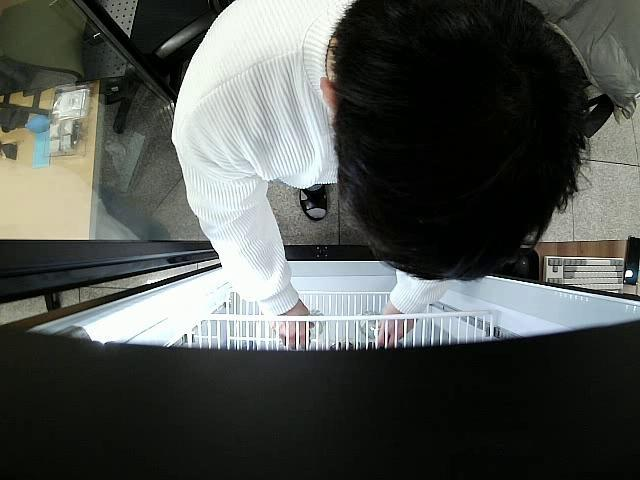18_trevi: (358, 310, 385, 340), (301, 308, 326, 338)
